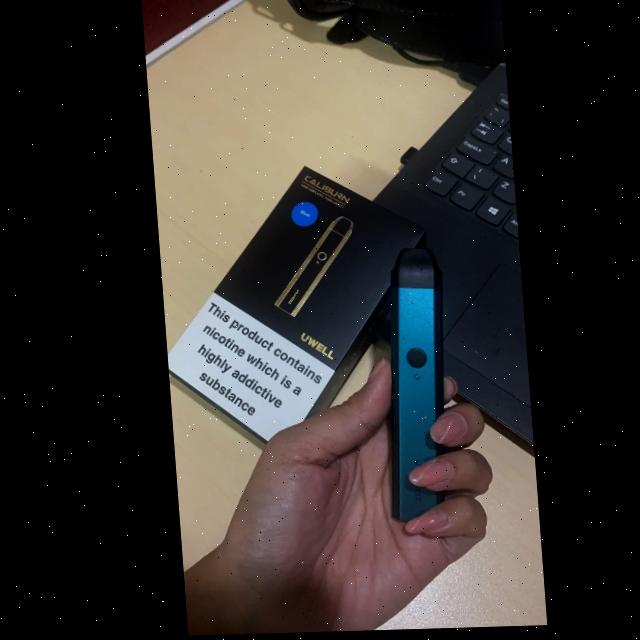vape: (369, 253, 451, 527), (264, 218, 354, 320)
